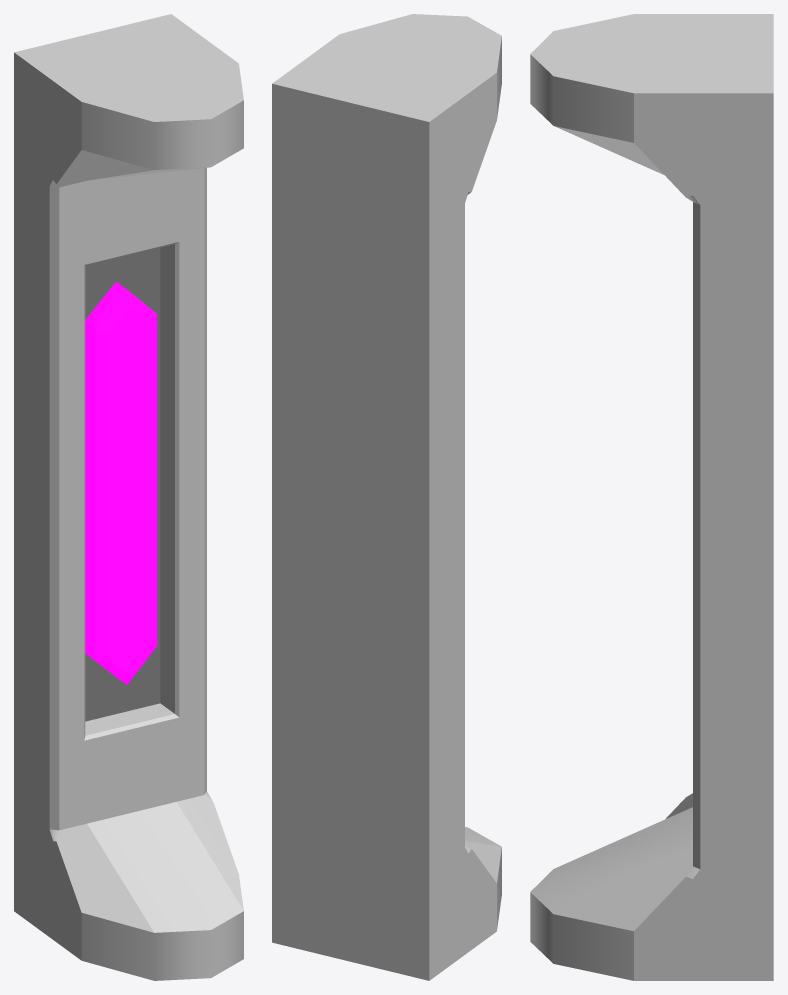
Rendered from GAME3040 - Wall Strut.fbx.
3 renders of one model, left to right at view 1: azimuth 30°, elevation 25°; view 2: azimuth 150°, elevation 25°; view 3: azimuth 270°, elevation 25°, orthographic. The views are drawn at different scales.
Visible parts, largest first — view 1: pCube1; view 2: pCube1; view 3: pCube1.
Boxes of the visible parts, box(x1,y1,x2,y2) form: pCube1: box(14, 14, 243, 980); pCube1: box(272, 14, 501, 980); pCube1: box(530, 14, 773, 980).
Bounding box in the file's own units: 1.15 × 6 × 1.49.
